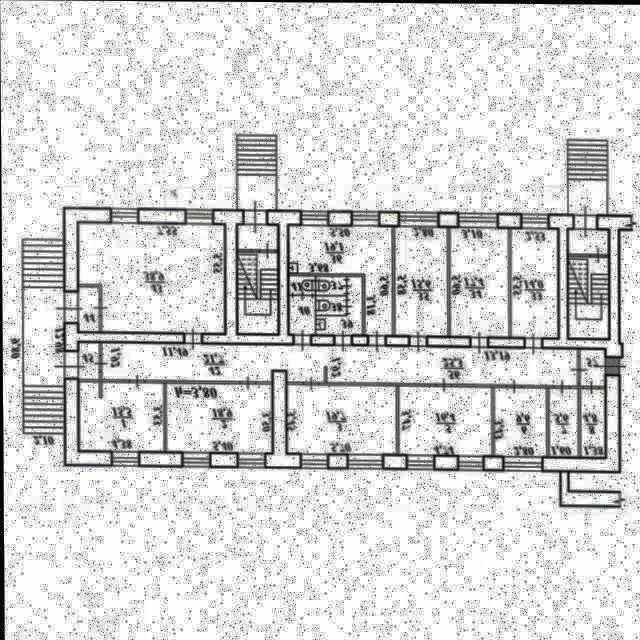room: (102, 343, 577, 385), (77, 223, 225, 333), (288, 225, 392, 335), (23, 241, 64, 433), (286, 384, 396, 454), (286, 384, 396, 453), (165, 384, 271, 452), (449, 227, 509, 337), (398, 387, 492, 455), (78, 382, 163, 452), (394, 227, 447, 336), (511, 228, 558, 337), (237, 223, 277, 335), (569, 228, 608, 338), (493, 387, 546, 456), (568, 140, 607, 215), (237, 137, 276, 210), (316, 276, 362, 334), (548, 387, 578, 456), (580, 387, 605, 457), (289, 295, 315, 334), (78, 287, 99, 332), (580, 349, 604, 386), (78, 343, 98, 380), (315, 276, 346, 295), (316, 296, 346, 315), (288, 276, 315, 294)
